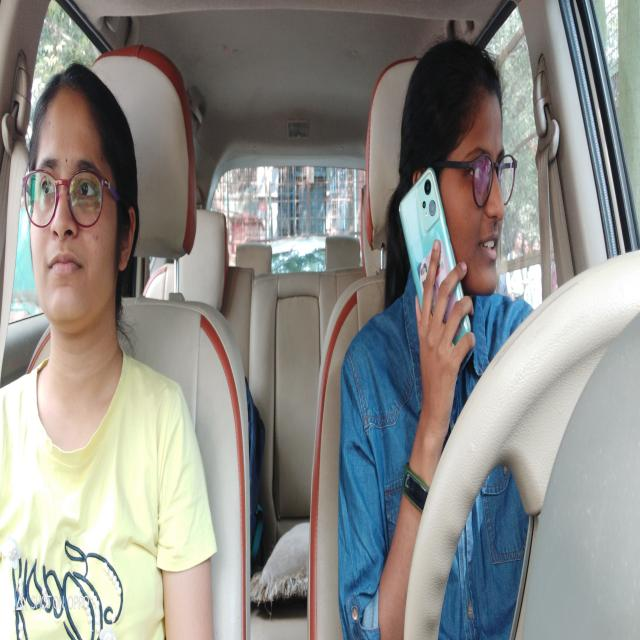mobile: (399, 166, 473, 366)
person: (396, 36, 516, 352), (23, 56, 139, 373)
